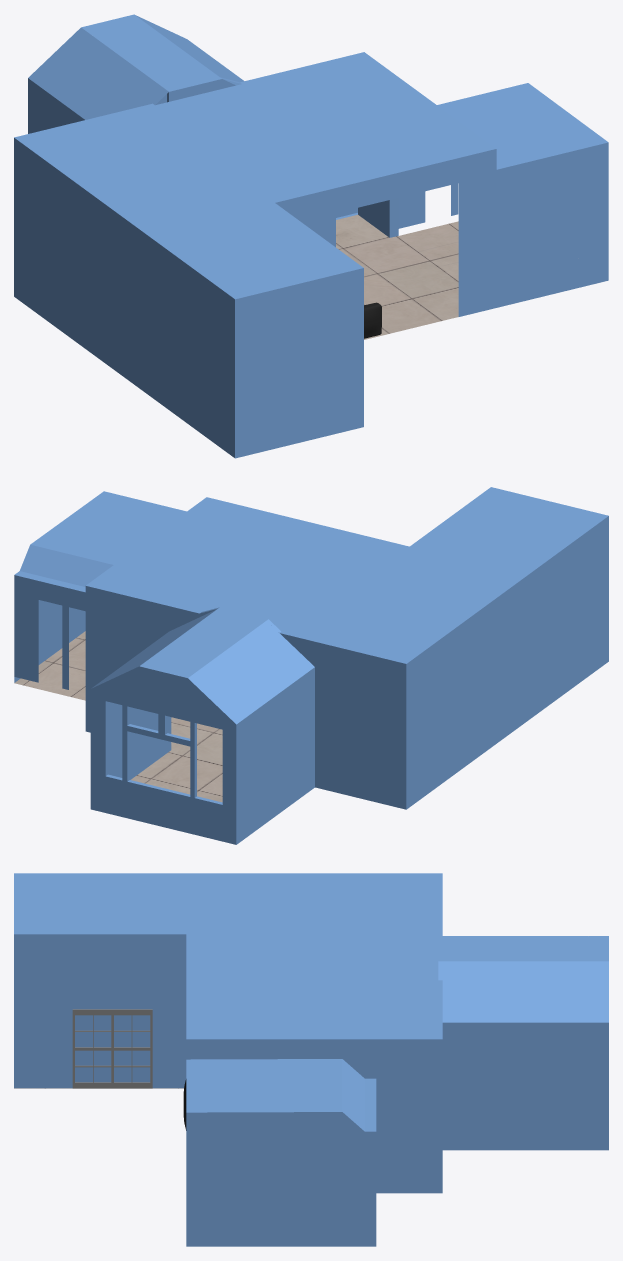
Rendered from _46BurlingtonWay02.fbx.
3 renders of one model, top to bottom at view 1: azimuth 30°, elevation 25°; view 2: azimuth 150°, elevation 25°; view 3: azimuth 270°, elevation 25°, orthographic. The views are drawn at different scales.
Parts seen in each view (by area): view 1: walls, floor.002, Cube.009; view 2: walls, floor.002; view 3: walls, bookcase.
Part boxes in pixels (box(x1,y1,x2,y2)): walls: box(14, 14, 608, 458); floor.002: box(336, 214, 458, 339); Cube.009: box(364, 302, 381, 338); walls: box(14, 487, 608, 844); floor.002: box(14, 631, 222, 802); walls: box(14, 873, 608, 1246); bookcase: box(72, 1009, 152, 1088).
Bounding box in the file's own units: 798 × 279 × 917.
